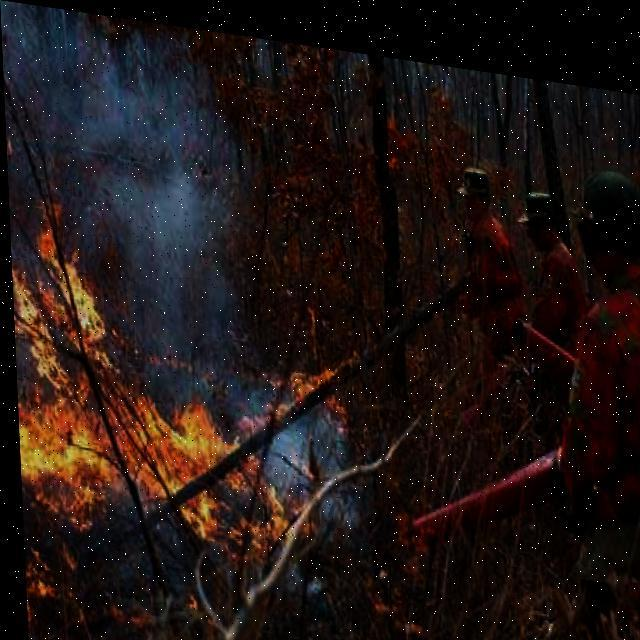Fire: (9, 198, 364, 592)
